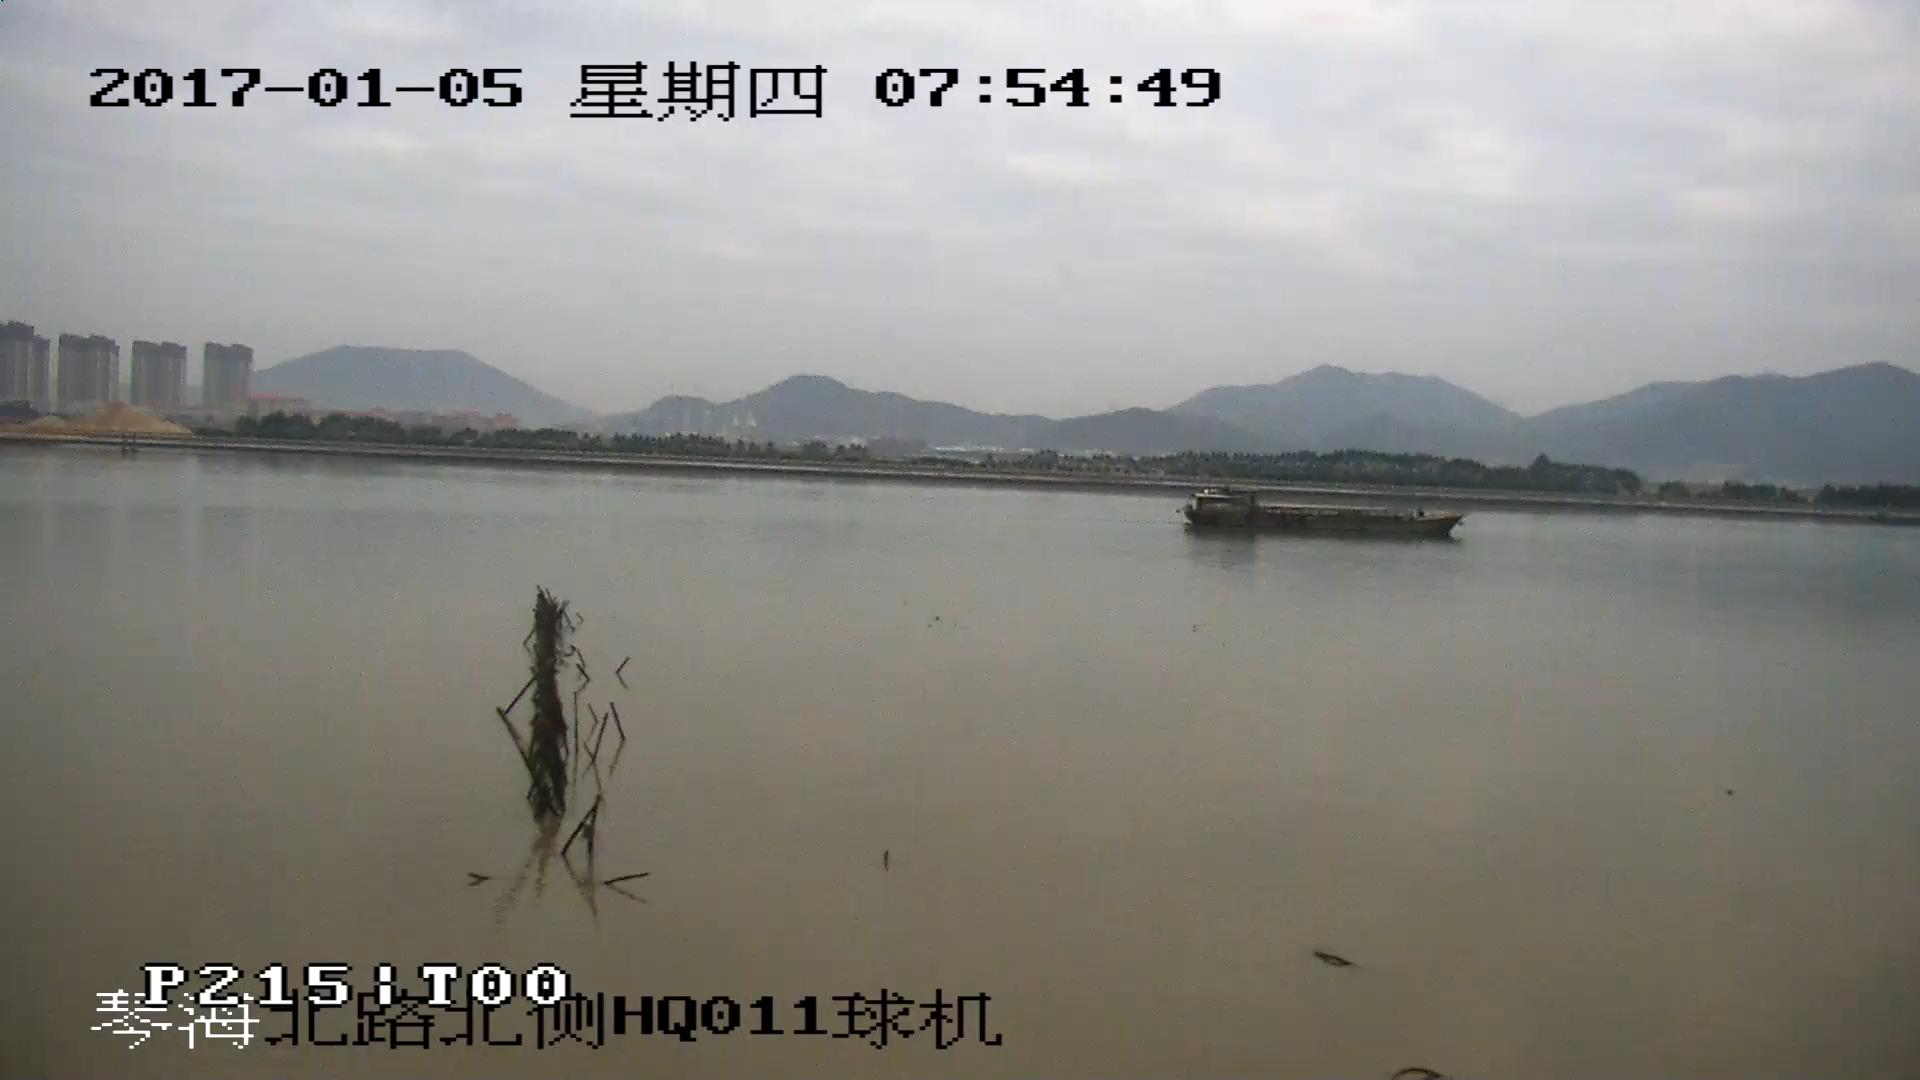bulk cargo carrier: (1182, 488, 1468, 538)
